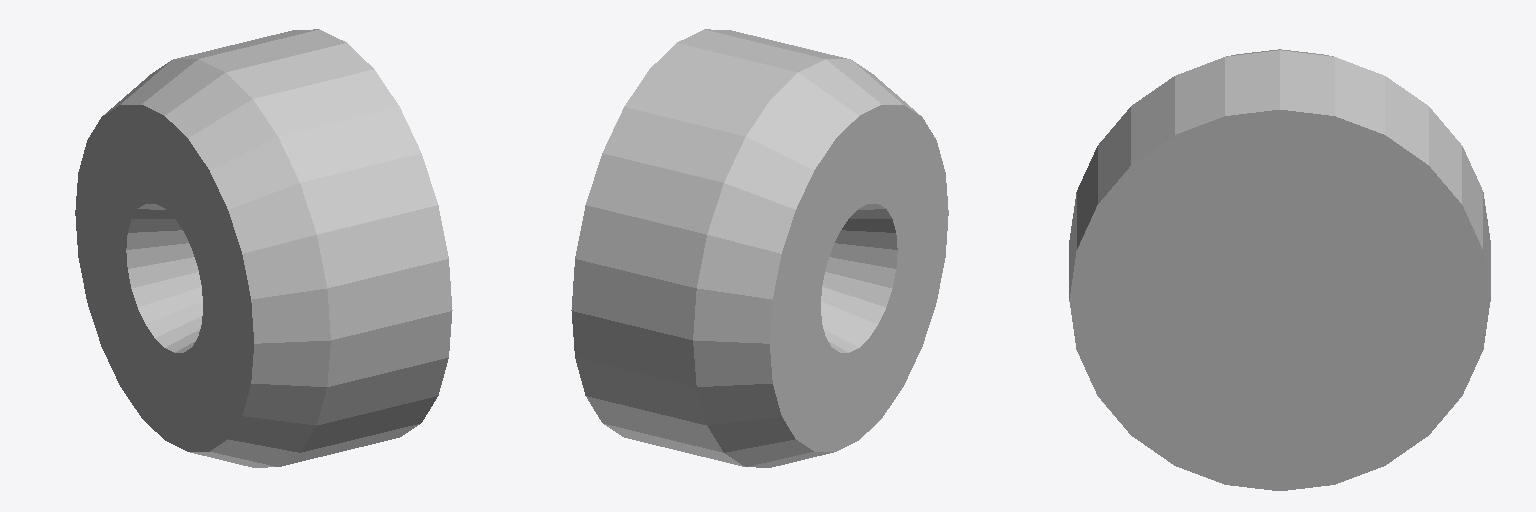
File: wheelTractorDarkFront.obj
3 views of the same model, side by side, from view 1: azimuth 30°, elevation 25°; view 2: azimuth 150°, elevation 25°; view 3: azimuth 270°, elevation 25° (orthographic).
Parts seen in each view (by area): view 1: wheelTractorDarkFront; view 2: wheelTractorDarkFront; view 3: wheelTractorDarkFront.
Boxes of the visible parts, box(x1,y1,x2,y2) form: wheelTractorDarkFront: box(75, 29, 452, 467); wheelTractorDarkFront: box(571, 29, 948, 467); wheelTractorDarkFront: box(1069, 49, 1490, 490).
Bounding box in the file's own units: 0.202 × 0.4039 × 0.4039.